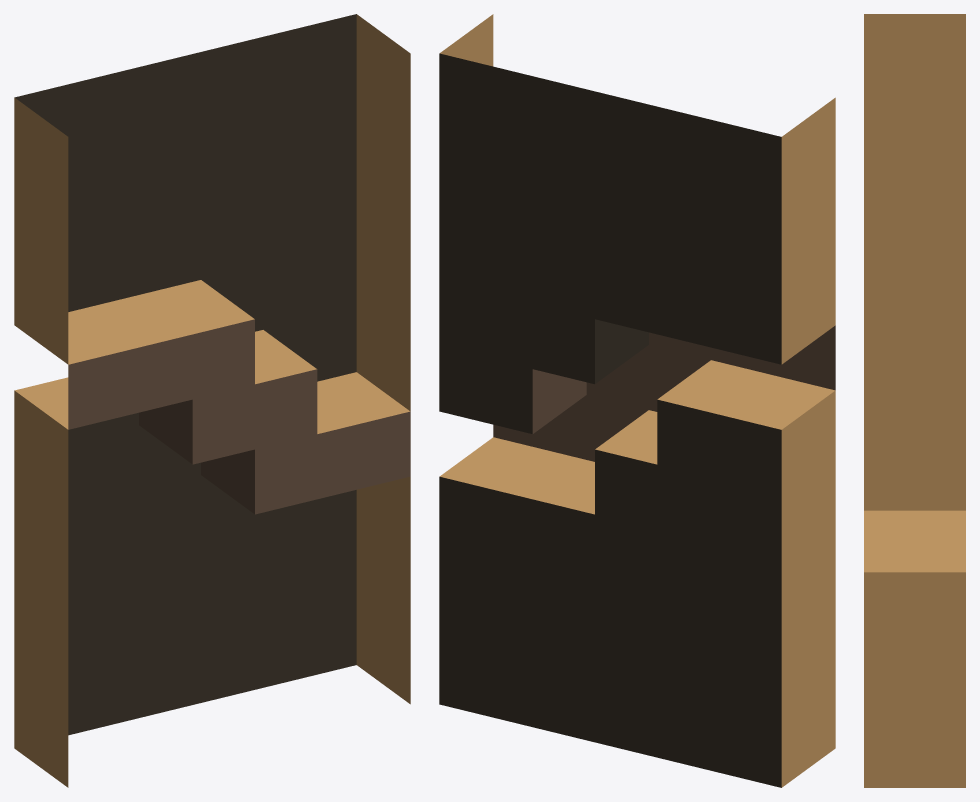
The model's file is Treppe.fbx.
3 views of the same model, side by side, from view 1: azimuth 30°, elevation 25°; view 2: azimuth 150°, elevation 25°; view 3: azimuth 270°, elevation 25° (orthographic). The views are drawn at different scales.
Visible parts, largest first — view 1: Plane.007; view 2: Plane.007; view 3: Plane.007.
Part boxes in pixels (x1,y1,x2,y2): Plane.007: (14,14,410,787); Plane.007: (439,14,835,787); Plane.007: (864,14,965,787).
Size of the model in its own units: 2200 by 4000 by 600.
